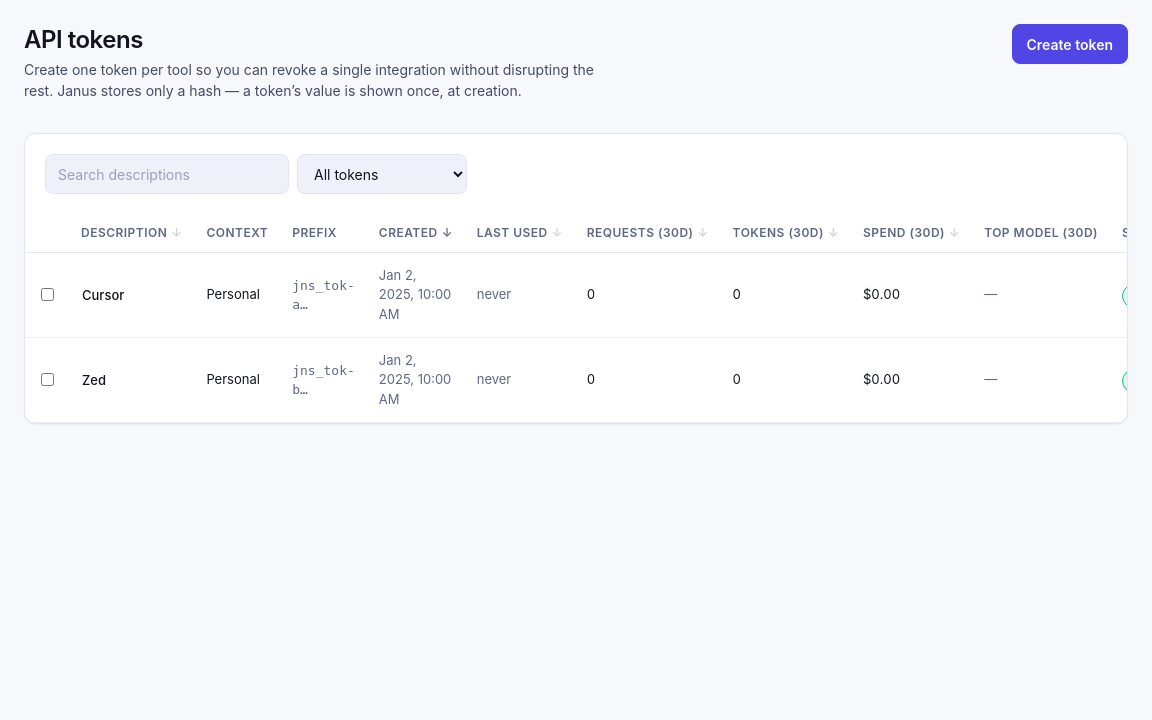
Scenario: bulk revoke › revokes every selected token and clears the selection on full success
Click the checkbox named "Select Cursor" at (48, 294), box [41,288,54,301]
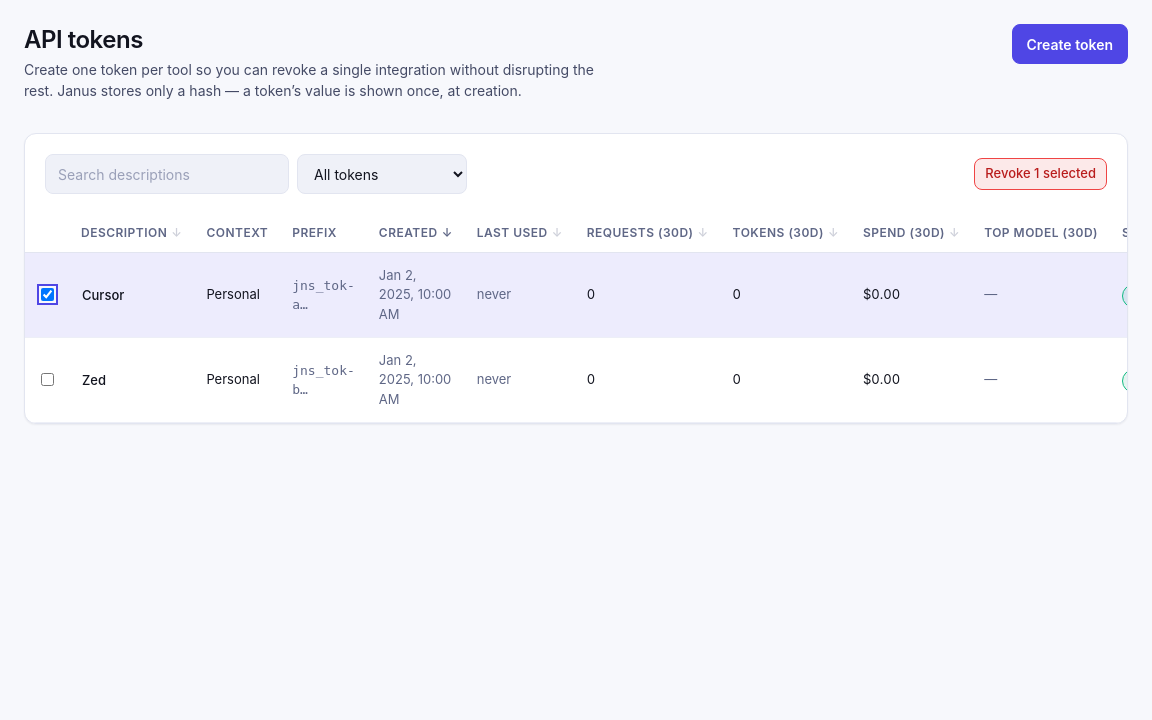
Click the checkbox named "Select Zed" at (48, 379), box [41,373,54,386]
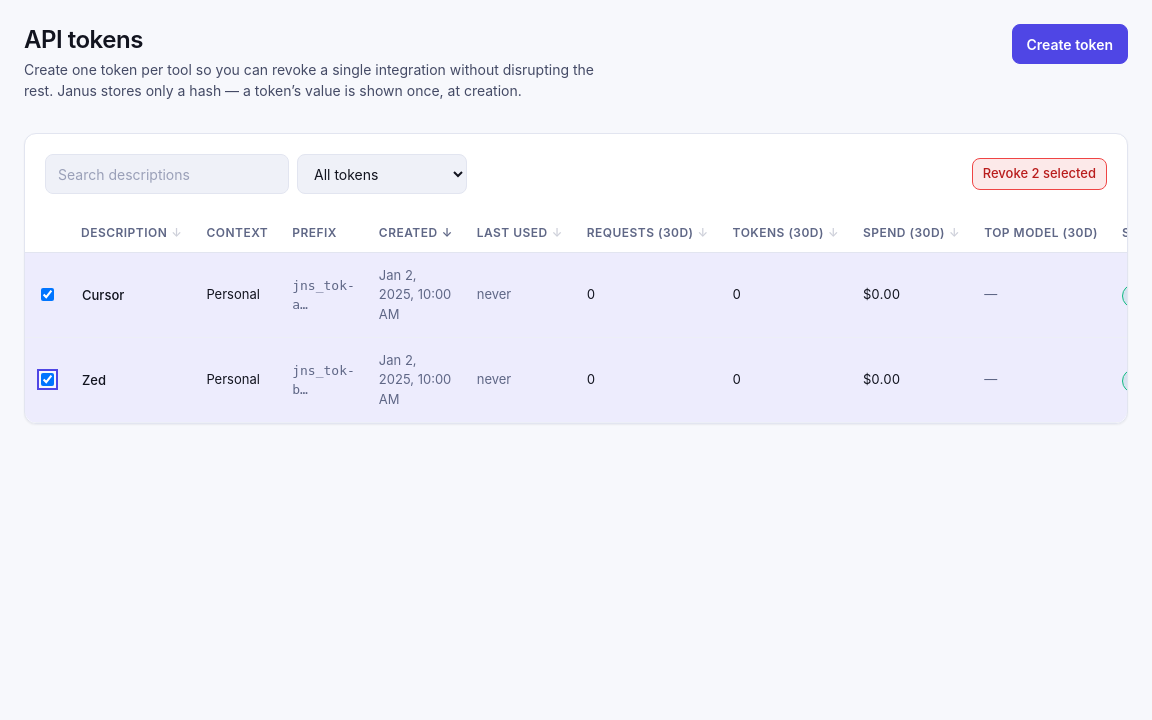
Click the button "Revoke 2 selected" at (1039, 174), box [972,158,1107,190]
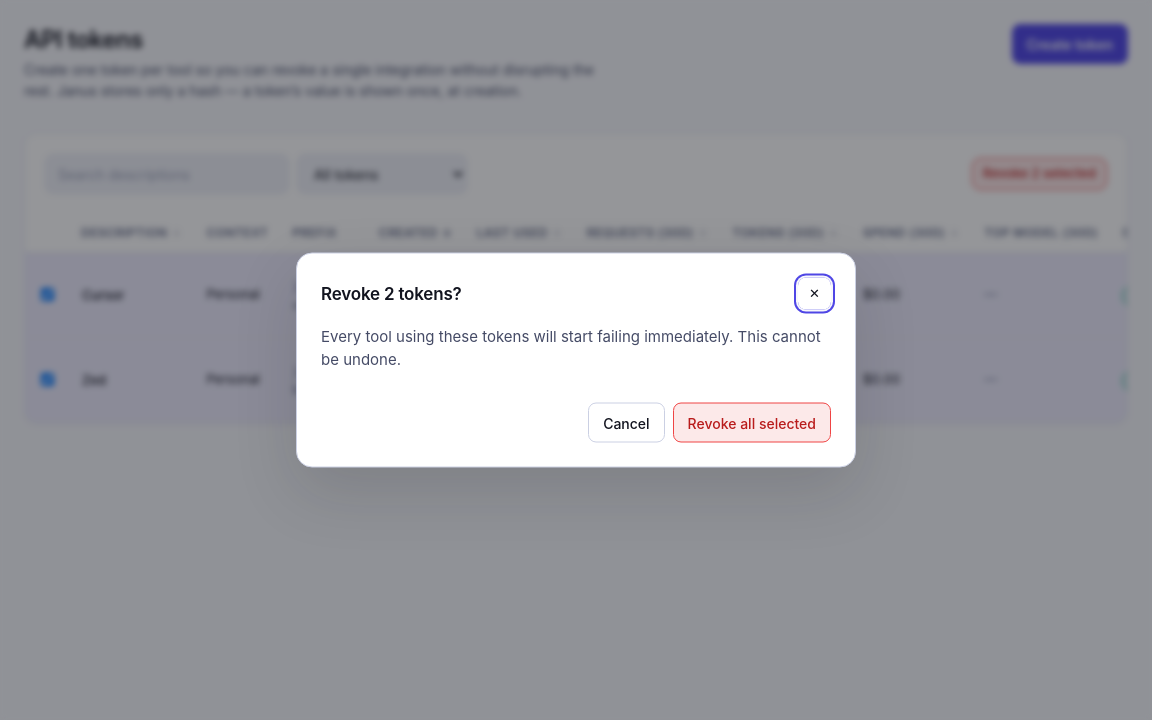
Click the button "Revoke all selected" at (752, 422), box [673,402,831,442]
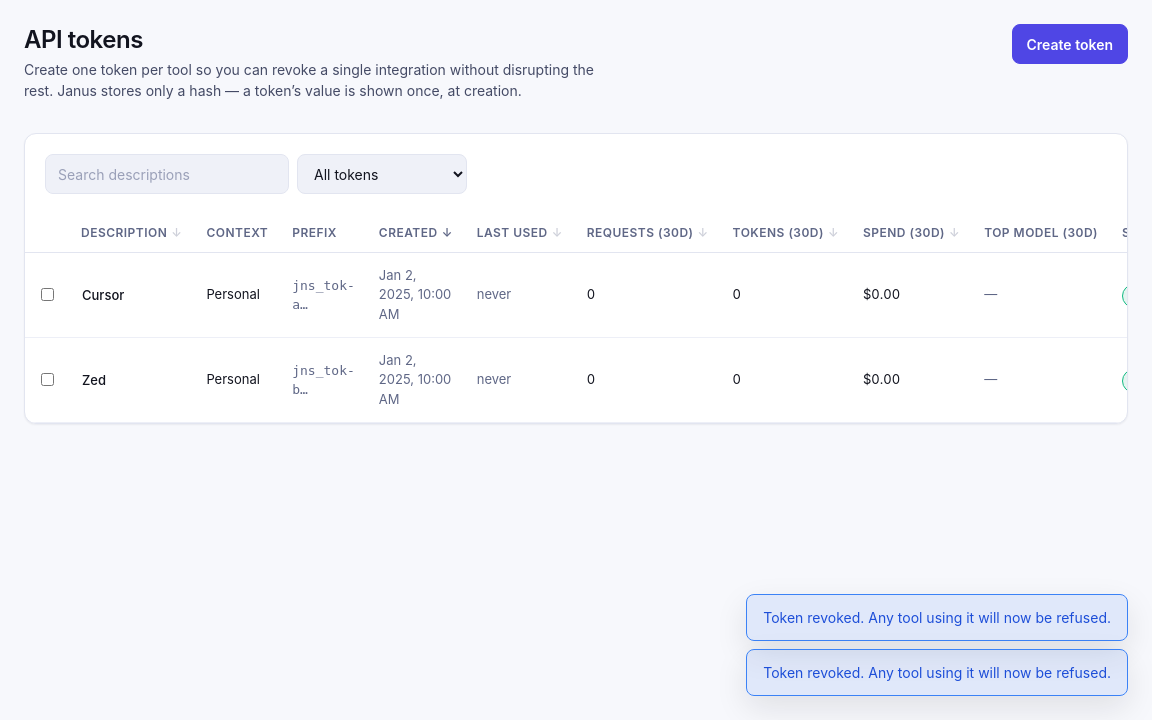
Now the button "selected" is gone
